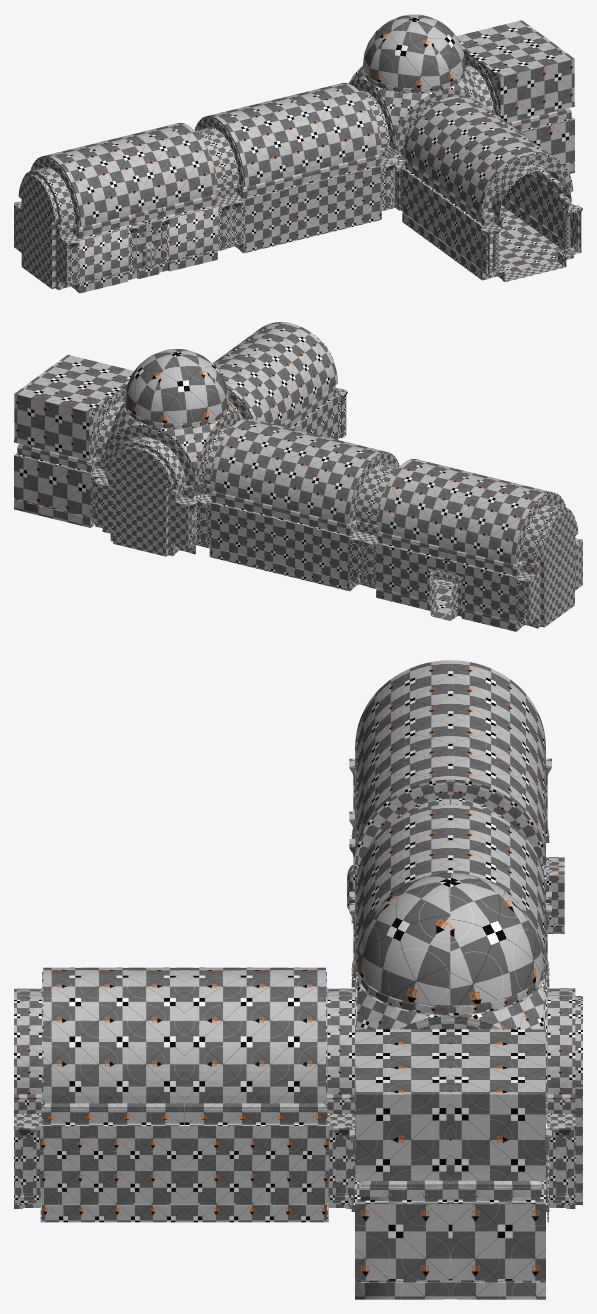
File: Spawn_2.obj
3 renders of one model, top to bottom at view 1: azimuth 30°, elevation 25°; view 2: azimuth 150°, elevation 25°; view 3: azimuth 270°, elevation 25°, orthographic. The views are drawn at different scales.
Visible parts, largest first — view 1: Gang_Cap_Ecke004, Kurve004, Gang_Dach_Bogen007, Gang_Dach_Bogen008, Gang_Dach_Bogen003, Gang_Dach_Bogen004, Gang_Wand_Standart006, Gang_Wand_Standart007, Gang_Wand_Statue002, Gang_Wand_Statue001, Gang_Dach_Bogen011, Gang_Dach_Bogen012 (+22 smaller); view 2: Gang_Cap_Ecke003, Kurve002, Gang_Dach_Bogen005, Gang_Dach_Bogen002, Gang_Dach_Bogen001, Gang_Dach_Bogen006, Gang_Wand_Standart002, Gang_Wand_Standart004, Gang_Wand_Standart005, Gang_Wand_Standart001, Gang_Cap_Bogen007, Gang_Dach_Bogen011 (+21 smaller); view 3: Gang_Cap_Ecke004, Gang_Cap_Ecke003, Gang_Dach_Bogen013, Gang_Dach_Bogen014, Gang_Wand_Standart013, Gang_Wand_Standart012, Kurve003, Kurve001, Gang_Dach_Bogen002, Gang_Dach_Bogen007, Gang_Dach_Bogen005, Gang_Dach_Bogen004 (+16 smaller).
Part boxes in pixels (x1,y1,x2,y2): Gang_Cap_Ecke004: (474,39,574,173); Kurve004: (369,19,440,209); Gang_Dach_Bogen007: (219,103,312,186); Gang_Dach_Bogen008: (287,86,380,170); Gang_Dach_Bogen003: (123,126,216,210); Gang_Dach_Bogen004: (55,143,148,226); Gang_Wand_Standart006: (311,155,382,236); Gang_Wand_Standart007: (243,171,312,253); Gang_Wand_Statue002: (79,211,151,293); Gang_Wand_Statue001: (146,195,218,276); Gang_Dach_Bogen011: (442,126,526,213); Gang_Dach_Bogen012: (403,97,487,184); Gang_Cap_Ecke003: (14,374,115,527); Kurve002: (150,354,222,547); Gang_Dach_Bogen005: (279,439,374,523); Gang_Dach_Bogen002: (377,462,472,547); Gang_Dach_Bogen001: (446,479,541,564); Gang_Dach_Bogen006: (211,422,305,506); Gang_Wand_Standart002: (375,532,451,618); Gang_Wand_Standart004: (279,508,350,590); Gang_Wand_Standart005: (209,491,281,573); Gang_Wand_Standart001: (441,548,516,631); Gang_Cap_Bogen007: (139,444,188,556); Gang_Dach_Bogen011: (252,323,337,412); Gang_Cap_Ecke004: (355,1029,450,1299); Gang_Cap_Ecke003: (450,1029,545,1299); Gang_Dach_Bogen013: (43,976,184,1103); Gang_Dach_Bogen014: (184,976,325,1103); Gang_Wand_Standart013: (184,1103,329,1222); Gang_Wand_Standart012: (40,1103,184,1222); Kurve003: (355,881,450,1114); Kurve001: (450,881,545,1113); Gang_Dach_Bogen002: (450,720,545,863); Gang_Dach_Bogen007: (355,804,450,949); Gang_Dach_Bogen005: (450,804,545,947); Gang_Dach_Bogen004: (355,660,450,805).
Size of the model in its own units: 51.25 by 15.97 by 27.4.
Materials: 1 (1 with a texture image).
